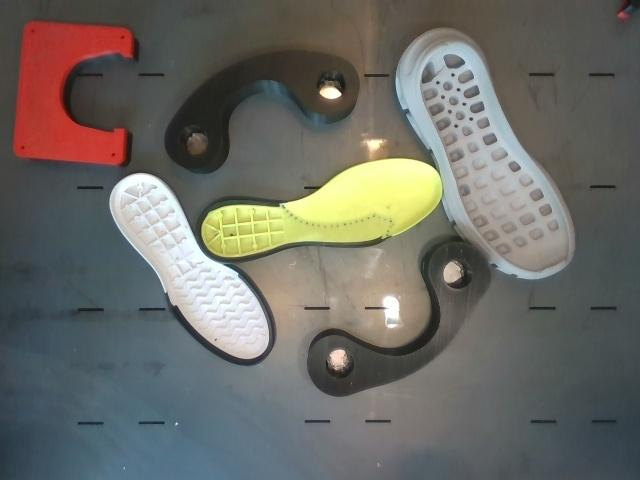shoes: (419, 41, 570, 274), (110, 174, 274, 365), (198, 160, 440, 262)
